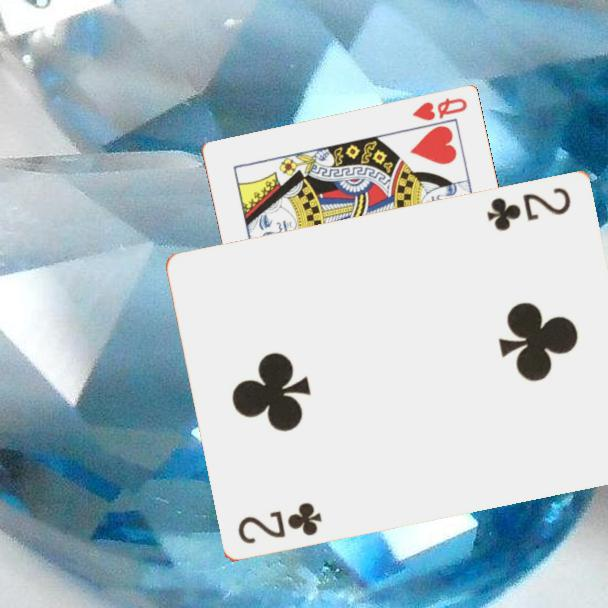c02: (483, 184, 573, 235), (234, 499, 325, 548)
h12: (408, 95, 470, 124)
